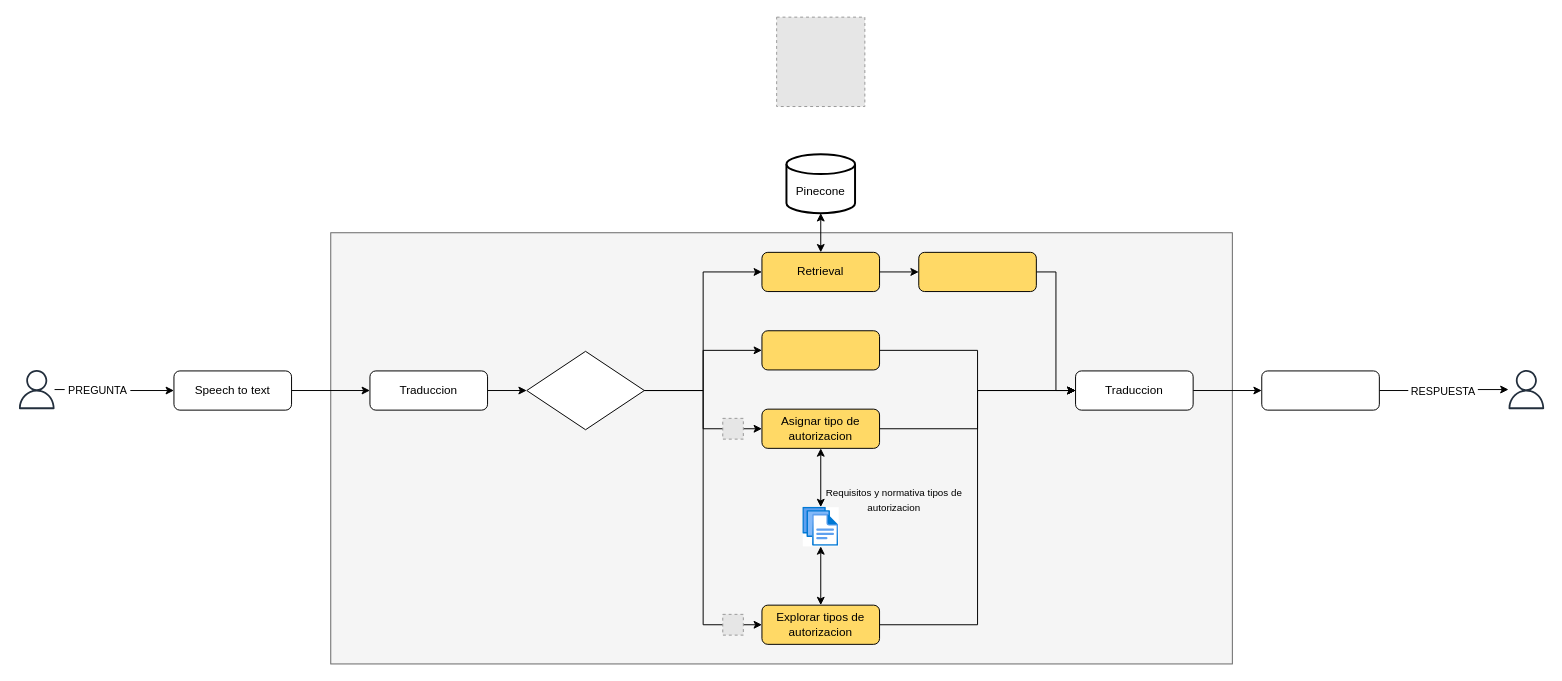
This 1562x681 diagram has some shape labels left out. Grey dashed boxes stand in for pictures. The box of each missing label's shape, as (x1, y1, x2, y2) in pixels:
Asignar pais de origen: (761, 330, 880, 370)
Enrutador funciones: (526, 350, 644, 430)
Pregunta generica: (918, 251, 1036, 292)
Text to speech: (1261, 370, 1379, 410)
